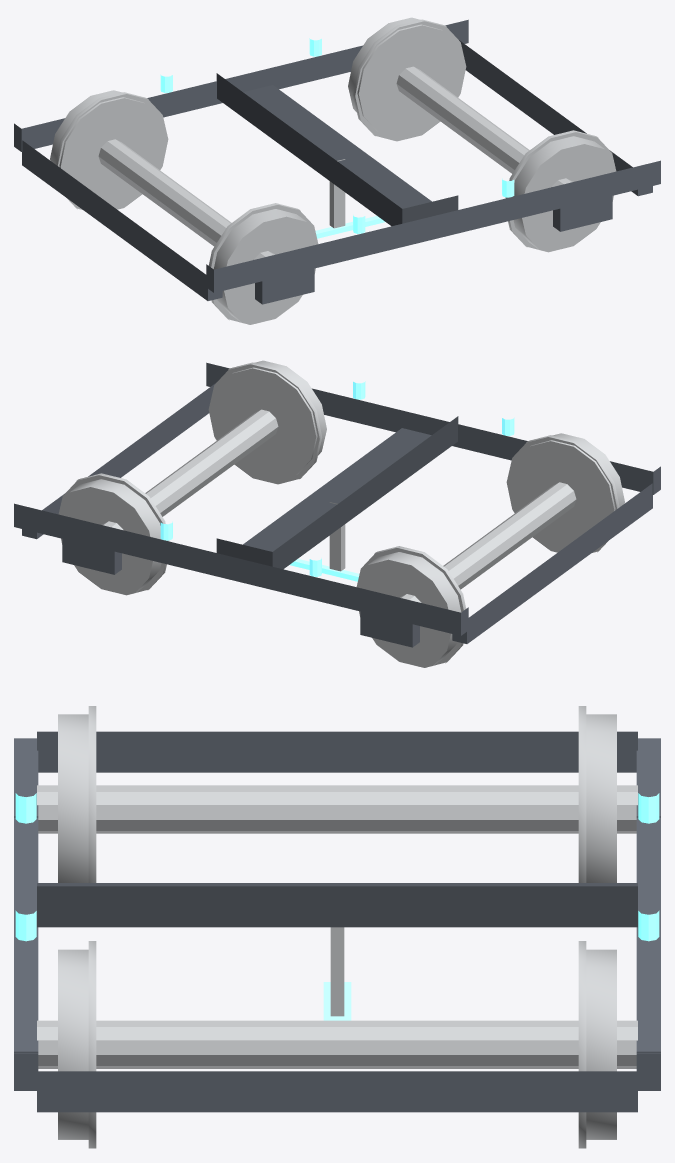
File: ext_tram_bogie_02.glb
3 views of the same model, one above another, from view 1: azimuth 30°, elevation 25°; view 2: azimuth 150°, elevation 25°; view 3: azimuth 270°, elevation 25° (orthographic). The views are drawn at different scales.
Parts seen in each view (by area): view 1: Wheelset_2, Side_Frames, Wheelset_1, Bolster, End_Beams, Springs, Collector_Hanger; view 2: Wheelset_2, Side_Frames, Wheelset_1, Bolster, End_Beams, Springs, Collector_Hanger; view 3: End_Beams, Wheelset_1, Wheelset_2, Bolster, Side_Frames, Springs, Collector_Hanger, Collector_Shoe.
Part boxes in pixels (x1,y1,x2,y2): Wheelset_2: (348,17,616,252); Side_Frames: (14,19,660,304); Wheelset_1: (50,90,318,324); Bolster: (216,73,458,226); End_Beams: (22,40,652,300); Springs: (160,38,514,233); Collector_Hanger: (329,159,345,228); Wheelset_2: (58,360,326,595); Side_Frames: (14,362,660,647); Wheelset_1: (356,433,624,667); Bolster: (216,416,458,569); End_Beams: (22,383,652,643); Springs: (160,381,514,576); Collector_Hanger: (329,502,345,571); End_Beams: (37,731,637,1112); Wheelset_1: (37,706,637,882); Wheelset_2: (37,941,637,1148); Bolster: (37,883,637,927); Side_Frames: (14,738,660,1090); Springs: (15,793,659,941); Collector_Hanger: (330,927,344,1016); Collector_Shoe: (323,982,351,1020).
Bounding box in the file's own units: 2.4 × 0.5947 × 1.86.
